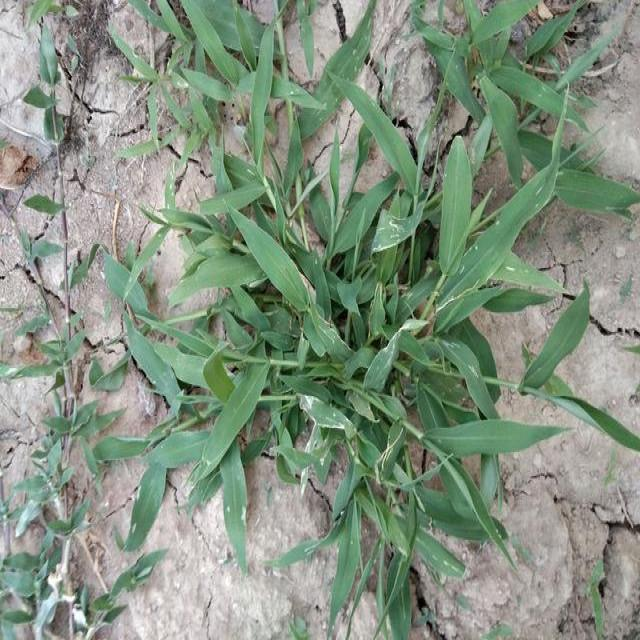weed: (145, 79, 640, 586), (14, 34, 131, 635), (423, 24, 640, 253), (131, 20, 352, 154)
